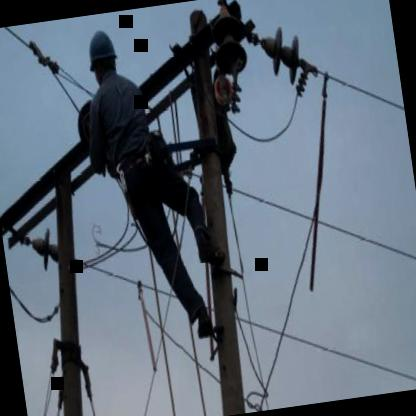helmet: (80, 23, 124, 93)
